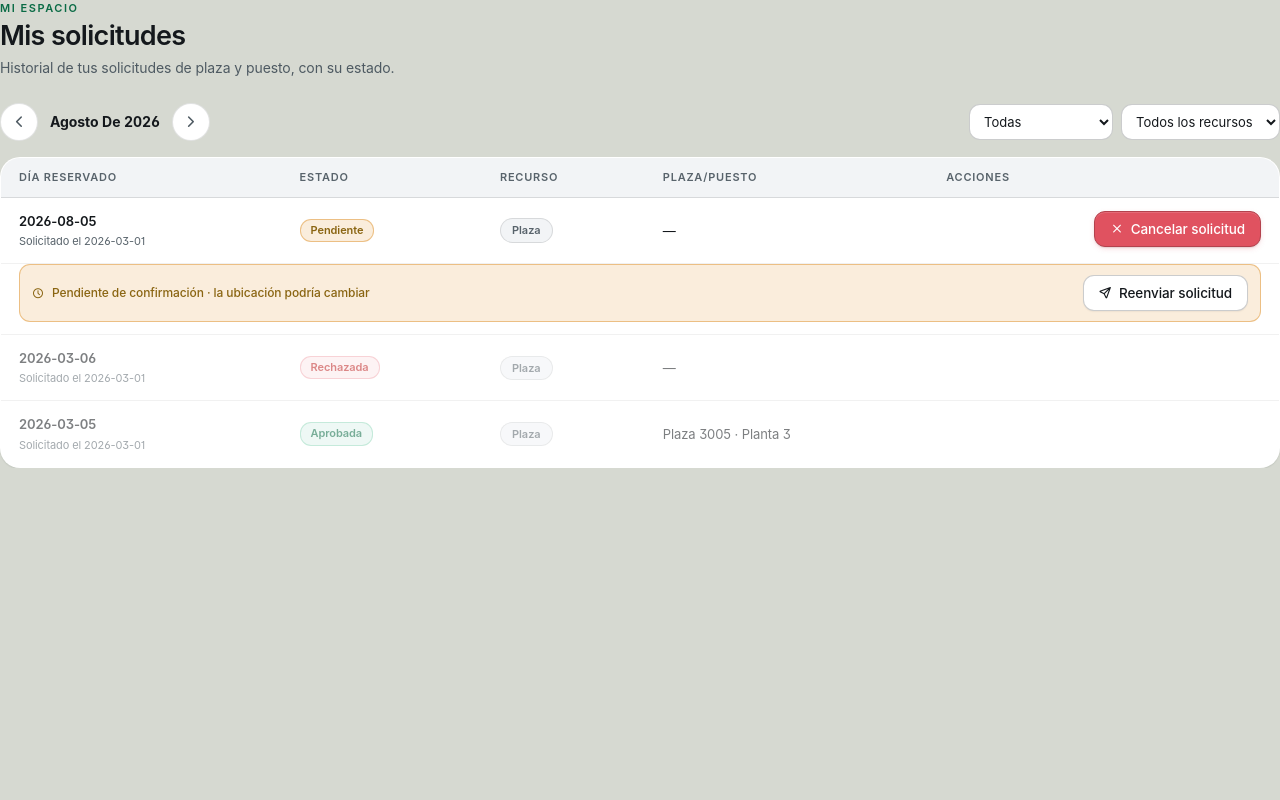
Scenario: MyRequestsPage (EMPLOYEE) › should_cancel_request_when_owner_cancels_pending
Click the button "Cancelar solicitud". click: click(1178, 229)
box: [1094,211,1261,247]
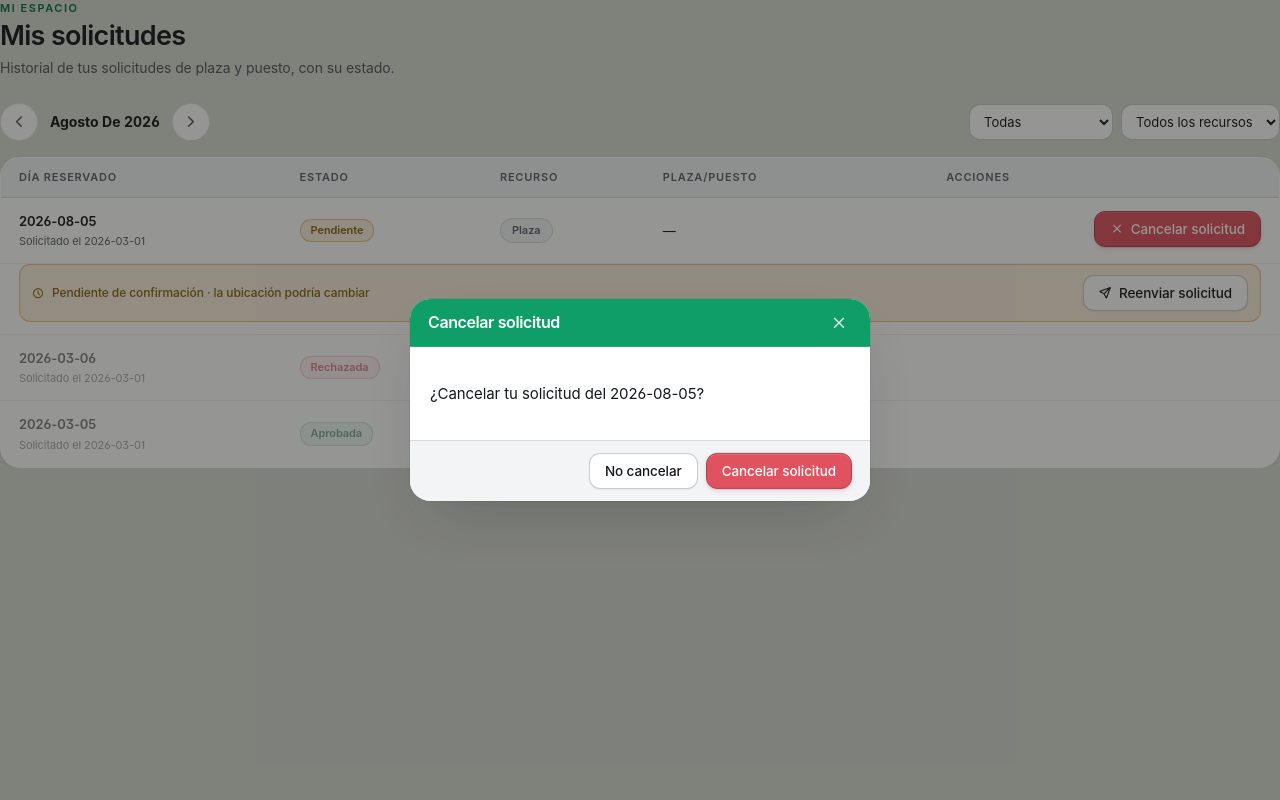
Click the button "Cancelar solicitud". click: click(779, 471)
box: [706,453,852,489]
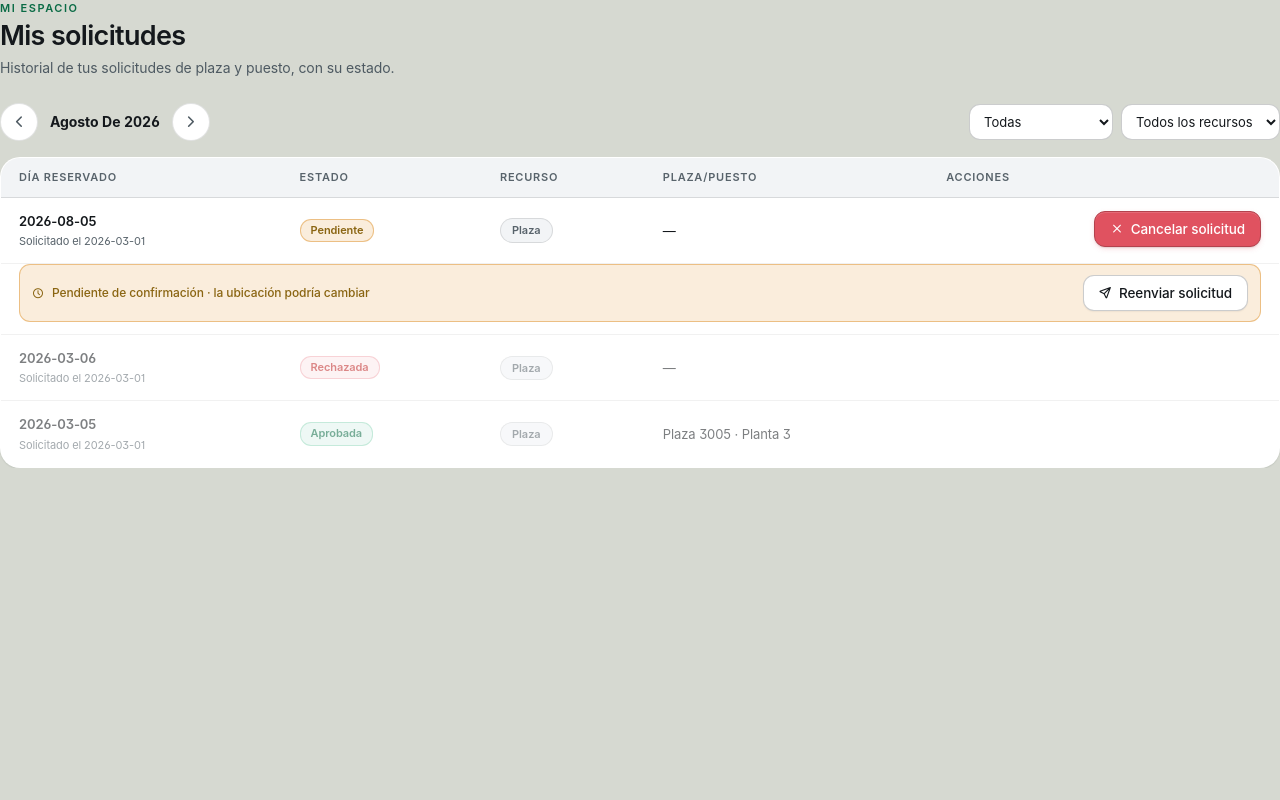
Check: the dialog is gone
